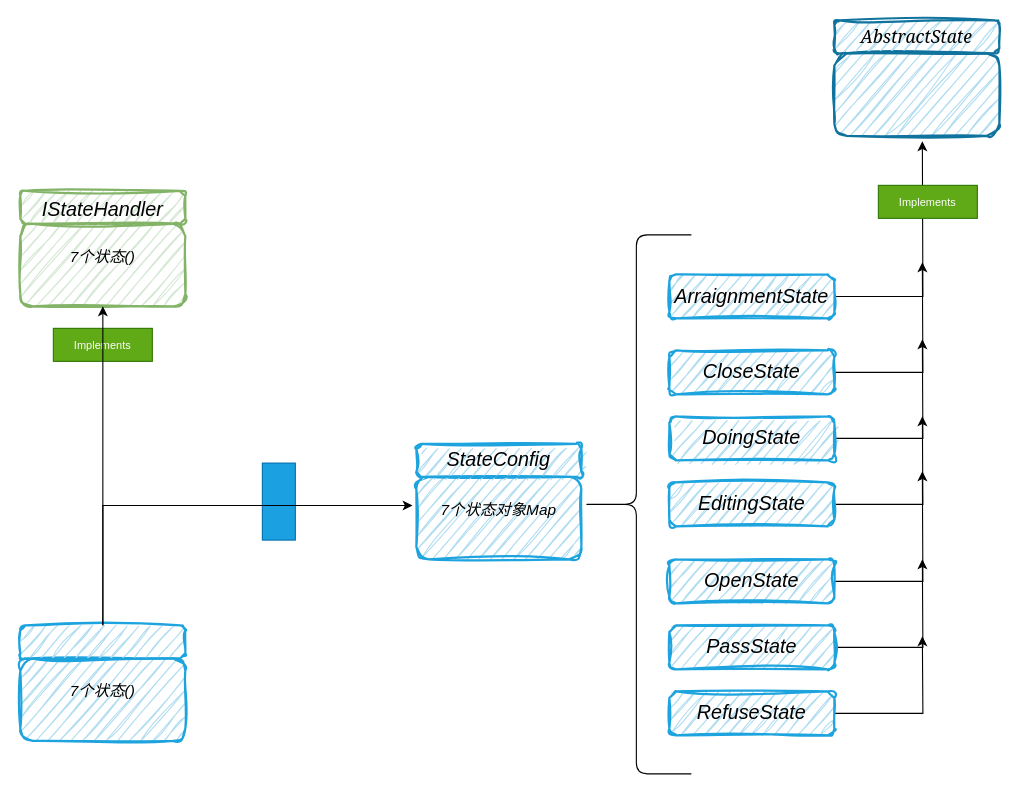
Some shapes in this 1019 by 793 pixel diagram are drawn without their labels. The shapes that lost their labels are listed below. From the top down, each one's centre as x and y in pixels, then its label:
At point (916, 94): "7个状态方法（）".
At point (278, 501): "Extends".
At point (102, 641): "StateHandlerImpl".
